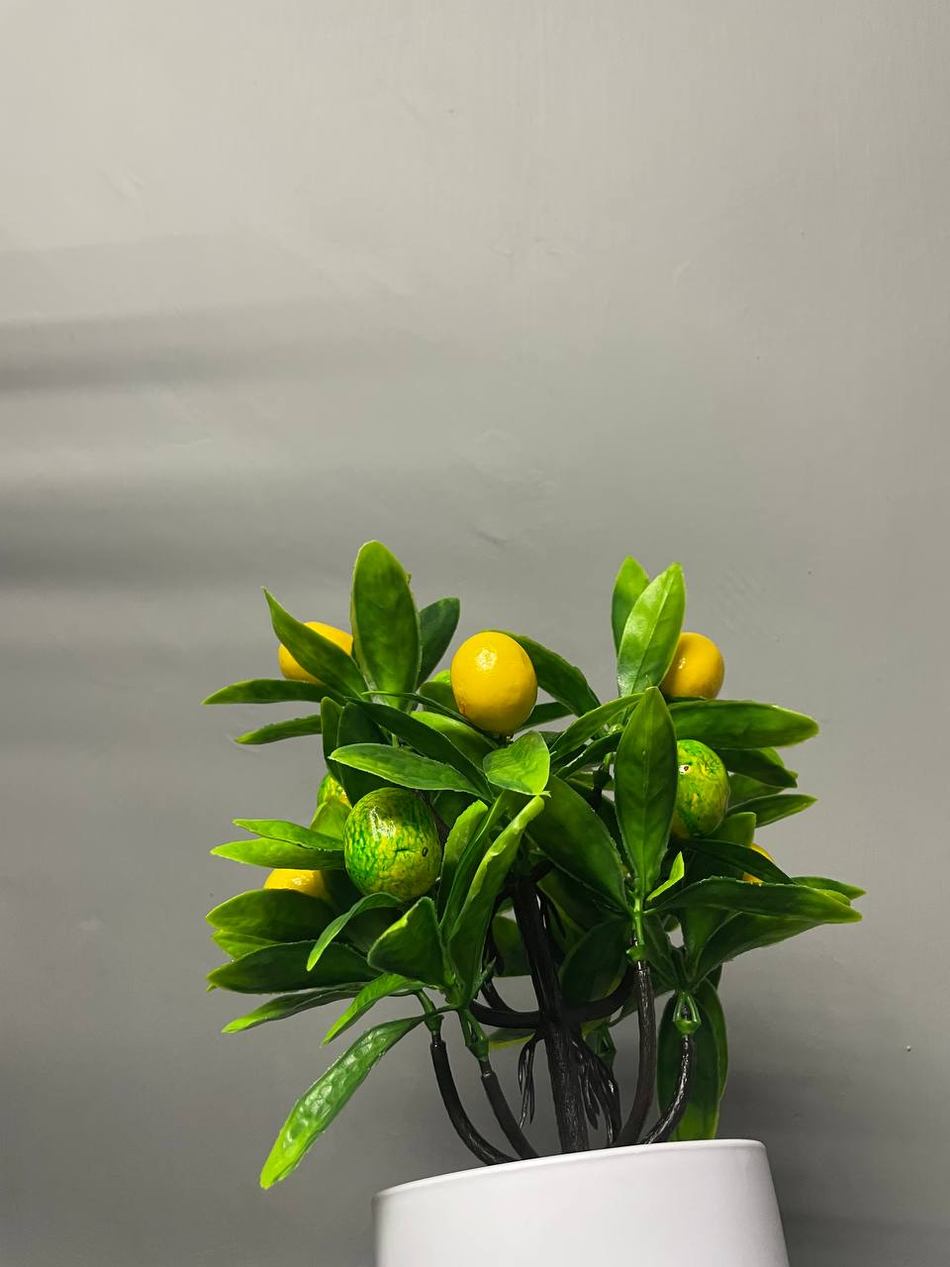lime_ripe: (449, 630, 539, 735), (658, 630, 726, 702)
lime_unripe: (343, 785, 443, 907), (666, 739, 732, 842)
